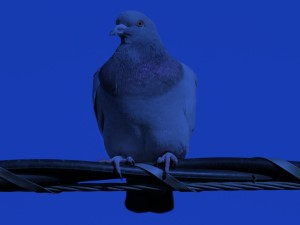pigeon: (90, 9, 201, 214)
